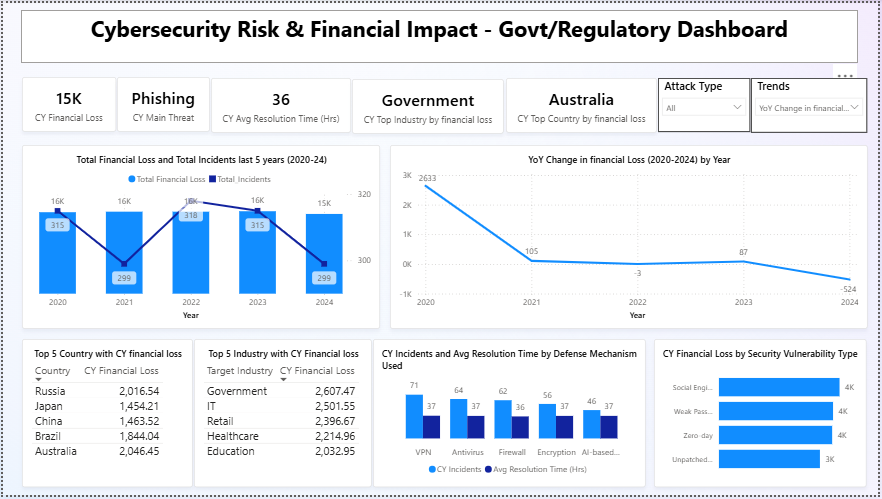

This screenshot's page, from the dashboard's own definition file:
{"tool":"powerbi","page":{"name":"Cybersecurity Dashboard","canvas":[1280,720],"ordinal":0},"visuals":[{"type":"card","fields":{"Values":["cyber.CY Financial Loss"]},"box":[27.8,108.3,137.6,80.5],"z":0},{"type":"card","fields":{"Values":["cyber.CY Avg Resolution Time"]},"box":[304.6,109.8,204.9,80.5],"z":1000},{"type":"card","fields":{"Values":["cyber.CY Main Threat"]},"box":[167.1,108.6,135.7,80],"z":2000},{"type":"card","fields":{"Values":["cyber.CY Top Industry by financial loss"]},"box":[511.3,111.2,222.4,80.5],"z":3000},{"type":"card","fields":{"Values":["cyber.CY Top Country by financial loss"]},"box":[735.5,109.8,221,80.5],"z":4000},{"type":"lineStackedColumnComboChart","title":"Total Financial Loss and Total Incidents last 5 years (2020-24)","fields":{"Category":["cyber.Year"],"Y":["cyber.Total_Financial_Loss"],"Y2":["cyber.Total_Incidents"]},"box":[27.1,207.1,524.3,268.6],"z":5000},{"type":"tableEx","title":"Top 5 Country with CY financial loss","fields":{"Values":["cyber.Country","cyber.CY Financial Loss"]},"box":[27.1,491.4,250,217.1],"z":6000},{"type":"textbox","box":[26.6,10.6,1224.8,77],"z":7000},{"type":"slicer","fields":{"Values":["cyber.Attack Type"]},"box":[958.2,109.8,134.6,79],"z":8000},{"type":"clusteredColumnChart","title":"CY Incidents and Avg Resolution Time by Defense Mechanism Used","fields":{"Category":["cyber.Defense Mechanism Used"],"Y":["cyber.CY_Incidents","cyber.Avg_Resolution_Time"]},"box":[542,491.5,398.5,216.5],"z":9000},{"type":"lineChart","fields":{"Y":["cyber.YoY Change financial loss"],"Category":["cyber.Year"]},"box":[565.7,207.1,698.6,268.6],"z":10000},{"type":"slicer","fields":{"Values":["trend 2.trend 2"]},"box":[1094.6,109.8,169.8,80.5],"z":11000},{"type":"tableEx","title":"Top 5 Industry with CY Financial loss","fields":{"Values":["cyber.Target Industry","cyber.CY Financial Loss"]},"box":[280,491.4,260,217.1],"z":12000},{"type":"clusteredBarChart","fields":{"Category":["cyber.Security Vulnerability Type"],"Y":["cyber.CY Financial Loss"]},"box":[952.9,491.4,311.4,217.1],"z":13000}]}

Visuals, with their boxes in screenshot pixels (x1, y1, x2, y2), scaled from the page's 1280x720 canvas onto the 882x499 screenshot:
card - cyber.CY Financial Loss: (x1=19, y1=75, x2=114, y2=131)
card - cyber.CY Avg Resolution Time: (x1=210, y1=76, x2=351, y2=132)
card - cyber.CY Main Threat: (x1=115, y1=75, x2=209, y2=131)
card - cyber.CY Top Industry by financial loss: (x1=352, y1=77, x2=506, y2=133)
card - cyber.CY Top Country by financial loss: (x1=507, y1=76, x2=659, y2=132)
"Total Financial Loss and Total Incidents last 5 years (2020-24)" lineStackedColumnComboChart: (x1=19, y1=144, x2=380, y2=330)
"Top 5 Country with CY financial loss" tableEx: (x1=19, y1=341, x2=191, y2=491)
textbox: (x1=18, y1=7, x2=862, y2=61)
slicer - cyber.Attack Type: (x1=660, y1=76, x2=753, y2=131)
"CY Incidents and Avg Resolution Time by Defense Mechanism Used" clusteredColumnChart: (x1=373, y1=341, x2=648, y2=491)
lineChart - cyber.YoY Change financial loss x cyber.Year: (x1=390, y1=144, x2=871, y2=330)
slicer - trend 2.trend 2: (x1=754, y1=76, x2=871, y2=132)
"Top 5 Industry with CY Financial loss" tableEx: (x1=193, y1=341, x2=372, y2=491)
clusteredBarChart - cyber.Security Vulnerability Type x cyber.CY Financial Loss: (x1=657, y1=341, x2=871, y2=491)
